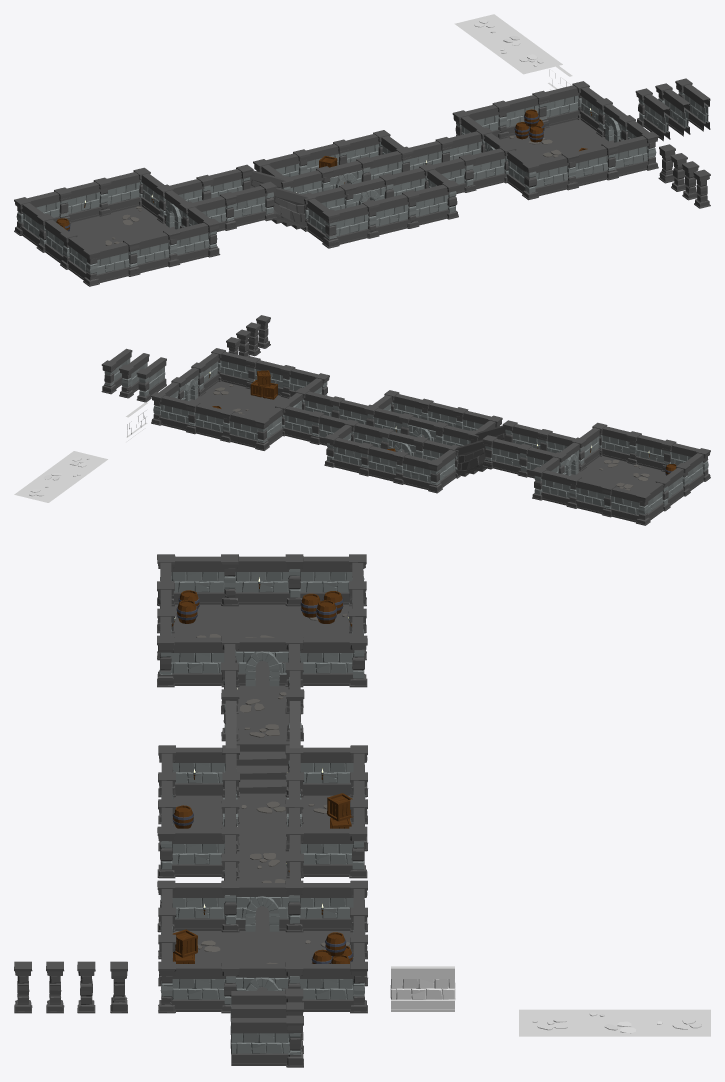
File: environment1.glb
3 renders of one model, top to bottom at view 1: azimuth 30°, elevation 25°; view 2: azimuth 150°, elevation 25°; view 3: azimuth 270°, elevation 25°, orthographic. The views are drawn at different scales.
Parts seen in each view (by area): view 1: Pilar 01.008, Pilar 01.014, Pilar 01.013, Pilar 01.002, Pilar 02.008, Pilar 03.014, Pilar 03.008, Pilar 03.003, Pilar 03.007, Pilar 02.020, Pilar 03.015, Pilar 03.004 (+50 smaller); view 2: Pilar 01.010, Pilar 03.013, Pilar 01.003, Pilar 01.009, Pilar 01.011, Pilar 01.005, Pilar 01.004, Pilar 01.012, Pilar 03.014, Pilar 03.011, Pilar 03.005, Pilar 03.015 (+48 smaller); view 3: Pilar 01.001, Pilar 03.017, Pilar 02.017, Pilar 02.022, Pilar 03.006, Pilar 02.016, Pilar 02.006, Pilar 02.003, Wall, Pilar 02.005, Pilar 02.023, Pilar 02.021 (+29 smaller).
Part boxes in pixels (box(x1,y1,x2,y2)): Pilar 01.008: box(322, 204, 369, 248); Pilar 01.014: box(96, 238, 140, 282); Pilar 01.013: box(176, 218, 220, 263); Pilar 01.002: box(575, 141, 618, 186); Pilar 02.008: box(459, 148, 505, 192); Pilar 03.014: box(93, 172, 140, 216); Pilar 03.008: box(362, 194, 409, 238); Pilar 03.003: box(615, 131, 658, 176); Pilar 03.007: box(402, 184, 448, 228); Pilar 02.020: box(232, 181, 276, 226); Pilar 03.015: box(136, 228, 180, 273); Pilar 03.004: box(535, 151, 578, 196); Pilar 01.010: box(402, 454, 442, 493); Pilar 03.013: box(610, 487, 650, 525); Pilar 01.003: box(229, 412, 269, 450); Pilar 01.009: box(330, 437, 373, 476); Pilar 01.011: box(482, 435, 520, 474); Pilar 01.005: box(283, 406, 324, 444); Pilar 01.004: box(159, 395, 200, 434); Pilar 01.012: box(575, 478, 616, 517); Pilar 03.014: box(541, 470, 581, 508); Pilar 03.011: box(368, 446, 408, 484); Pilar 03.005: box(195, 404, 235, 442); Pilar 03.015: box(626, 431, 664, 470); Pilar 01.001: box(230, 1015, 303, 1067); Pilar 03.017: box(221, 554, 290, 606); Pilar 02.017: box(157, 826, 224, 878); Pilar 02.022: box(300, 635, 367, 687); Pilar 03.006: box(299, 961, 367, 1013); Pilar 02.016: box(300, 826, 367, 878); Pilar 02.006: box(285, 880, 353, 932); Pilar 02.003: box(171, 961, 239, 1013); Wall: box(390, 966, 455, 1011); Pilar 02.005: box(221, 880, 289, 932); Pilar 02.023: box(171, 635, 239, 687); Pilar 02.021: box(285, 554, 352, 606).
Bounding box in the file's own units: 65.14 × 5.18 × 43.58.
